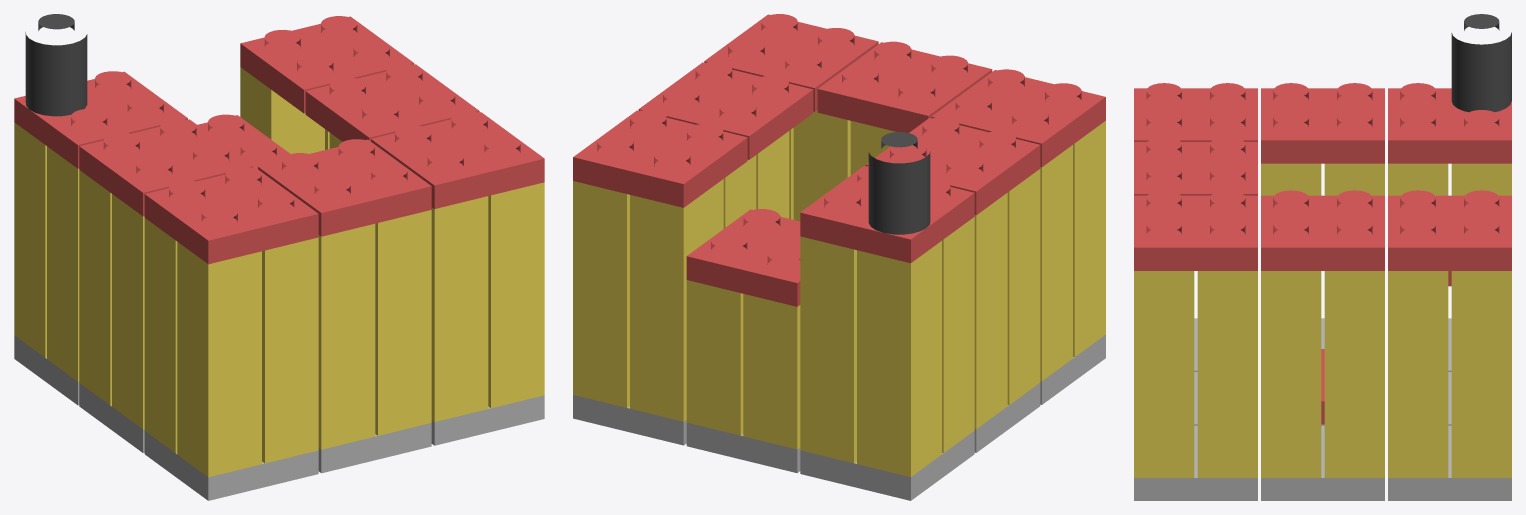
File: house.glb
3 renders of one model, left to right at view 1: azimuth 30°, elevation 25°; view 2: azimuth 150°, elevation 25°; view 3: azimuth 270°, elevation 25°, orthographic. The views are drawn at different scales.
Visible parts, largest first — view 1: /World/Bricks/Brick_070_2x2_plate/Body, /World/Bricks/Brick_076_2x2_plate/Body, /World/Bricks/Brick_073_2x2_plate/Body, /World/Bricks/Brick_069_2x2_plate/Body, /World/Bricks/Brick_074_2x2_plate/Body, /World/Bricks/Brick_075_2x2_plate/Body, /World/Bricks/Brick_015_1x1/Body, /World/Bricks/Brick_033_1x1/Body, /World/Bricks/Brick_053_1x1/Body, /World/Bricks/Brick_068_2x2_plate/Body, /World/Bricks/Brick_077_1x1_round/Body, /World/Bricks/Brick_003_2x2_plate/Body (+36 smaller); view 2: /World/Bricks/Brick_074_2x2_plate/Body, /World/Bricks/Brick_073_2x2_plate/Body, /World/Bricks/Brick_075_2x2_plate/Body, /World/Bricks/Brick_070_2x2_plate/Body, /World/Bricks/Brick_068_2x2_plate/Body, /World/Bricks/Brick_071_2x2_plate/Body, /World/Bricks/Brick_069_2x2_plate/Body, /World/Bricks/Brick_048_1x1/Body, /World/Bricks/Brick_028_1x1/Body, /World/Bricks/Brick_010_1x1/Body, /World/Bricks/Brick_076_2x2_plate/Body, /World/Bricks/Brick_060_1x1/Body (+38 smaller); view 3: /World/Bricks/Brick_069_2x2_plate/Body, /World/Bricks/Brick_074_2x2_plate/Body, /World/Bricks/Brick_075_2x2_plate/Body, /World/Bricks/Brick_076_2x2_plate/Body, /World/Bricks/Brick_068_2x2_plate/Body, /World/Bricks/Brick_073_2x2_plate/Body, /World/Bricks/Brick_070_2x2_plate/Body, /World/Bricks/Brick_022_1x1/Body, /World/Bricks/Brick_023_1x1/Body, /World/Bricks/Brick_024_1x1/Body, /World/Bricks/Brick_025_1x1/Body, /World/Bricks/Brick_026_1x1/Body (+49 smaller).
Boxes of the visible parts, x1,y1,x2,y2 form: /World/Bricks/Brick_070_2x2_plate/Body: (144,167,318,264); /World/Bricks/Brick_076_2x2_plate/Body: (371,112,544,208); /World/Bricks/Brick_073_2x2_plate/Body: (258,139,431,236); /World/Bricks/Brick_069_2x2_plate/Body: (79,119,253,216); /World/Bricks/Brick_074_2x2_plate/Body: (240,16,414,113); /World/Bricks/Brick_075_2x2_plate/Body: (305,64,479,141); /World/Bricks/Brick_015_1x1/Body: (177,384,261,477); /World/Bricks/Brick_033_1x1/Body: (177,313,261,406); /World/Bricks/Brick_053_1x1/Body: (177,242,261,335); /World/Bricks/Brick_068_2x2_plate/Body: (14,71,187,168); /World/Bricks/Brick_077_1x1_round/Body: (25,32,87,116); /World/Bricks/Brick_003_2x2_plate/Body: (144,431,318,500); /World/Bricks/Brick_074_2x2_plate/Body: (573,110,747,207); /World/Bricks/Brick_073_2x2_plate/Body: (817,42,992,132); /World/Bricks/Brick_075_2x2_plate/Body: (638,62,813,159); /World/Bricks/Brick_070_2x2_plate/Body: (931,70,1105,167); /World/Bricks/Brick_068_2x2_plate/Body: (800,166,974,263); /World/Bricks/Brick_071_2x2_plate/Body: (686,209,800,306); /World/Bricks/Brick_069_2x2_plate/Body: (865,118,1040,215); /World/Bricks/Brick_048_1x1/Body: (857,241,941,334); /World/Bricks/Brick_028_1x1/Body: (857,312,941,405); /World/Bricks/Brick_010_1x1/Body: (857,383,941,476); /World/Bricks/Brick_076_2x2_plate/Body: (704,14,878,111); /World/Bricks/Brick_060_1x1/Body: (630,185,714,279); /World/Bricks/Brick_069_2x2_plate/Body: (1261,88,1384,163); /World/Bricks/Brick_074_2x2_plate/Body: (1388,195,1511,270); /World/Bricks/Brick_075_2x2_plate/Body: (1261,195,1384,270); /World/Bricks/Brick_076_2x2_plate/Body: (1134,195,1257,270); /World/Bricks/Brick_068_2x2_plate/Body: (1388,88,1511,163); /World/Bricks/Brick_073_2x2_plate/Body: (1134,142,1257,195); /World/Bricks/Brick_070_2x2_plate/Body: (1134,88,1257,141); /World/Bricks/Brick_022_1x1/Body: (1451,409,1511,477); /World/Bricks/Brick_023_1x1/Body: (1388,409,1448,477); /World/Bricks/Brick_024_1x1/Body: (1324,409,1384,477); /World/Bricks/Brick_025_1x1/Body: (1261,409,1321,477); /World/Bricks/Brick_026_1x1/Body: (1197,409,1257,477).
Size of what is drawn, in the model's own units: 5.95 by 5.78 by 5.95.
